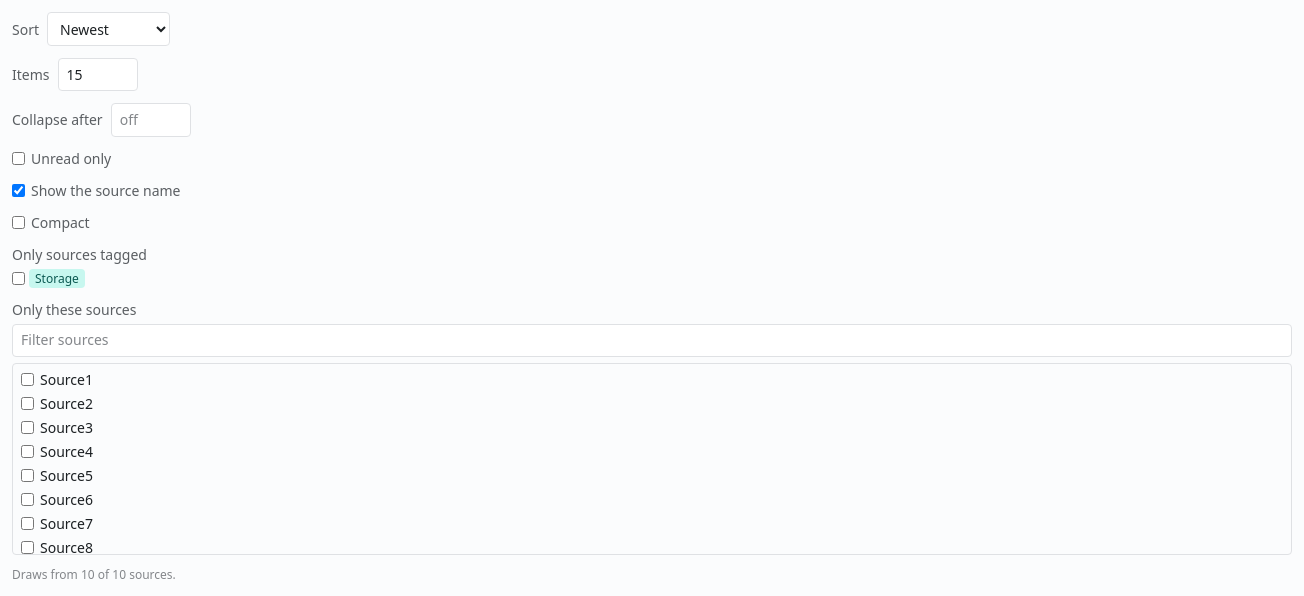
Test case: searching the source list › matches the identifier as well as the title
Type "lwn.net" into the search field labelled "Filter sources" at (652,340), box 12,324 -> 1292,357
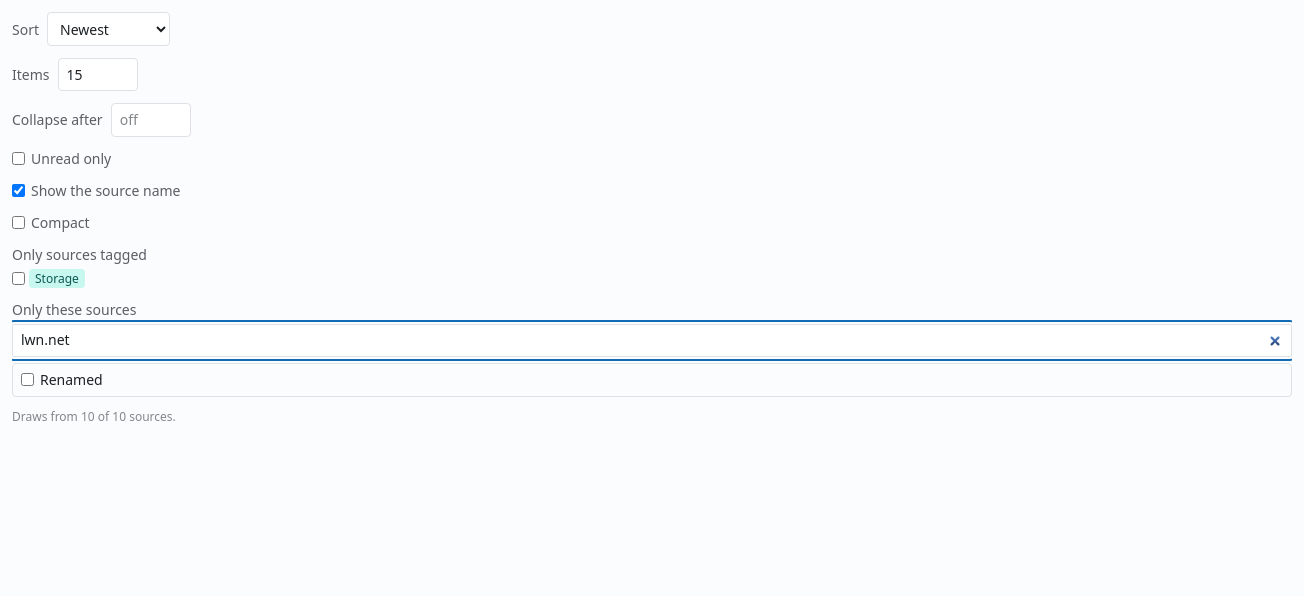
Expected: the checkbox labelled "Renamed" is shown, 21,373 -> 34,386
Expected: the text labelled "Source1" is gone
